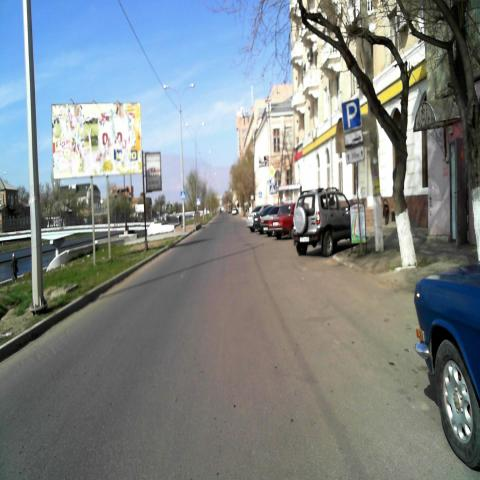6_4: (341, 98, 362, 130)
8_6_4: (343, 130, 363, 146)
